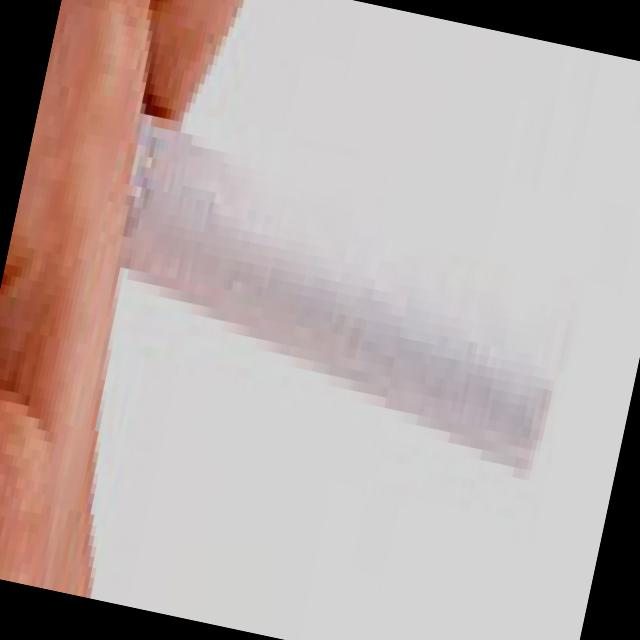cigarette: (51, 100, 602, 524)
